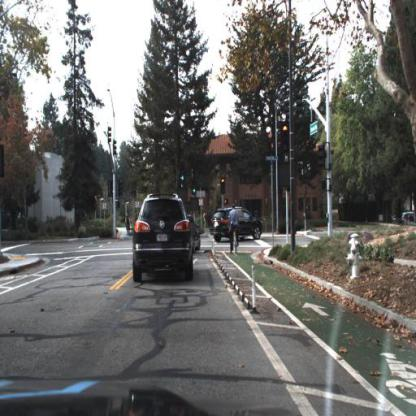biker: (228, 204, 240, 252), (124, 209, 134, 238)
car: (131, 188, 196, 282), (209, 205, 263, 245), (187, 214, 205, 254), (186, 213, 202, 255)
trafficLight: (179, 166, 186, 189), (193, 181, 198, 199)
trafficLight-Red: (282, 121, 290, 161), (221, 179, 227, 200)
